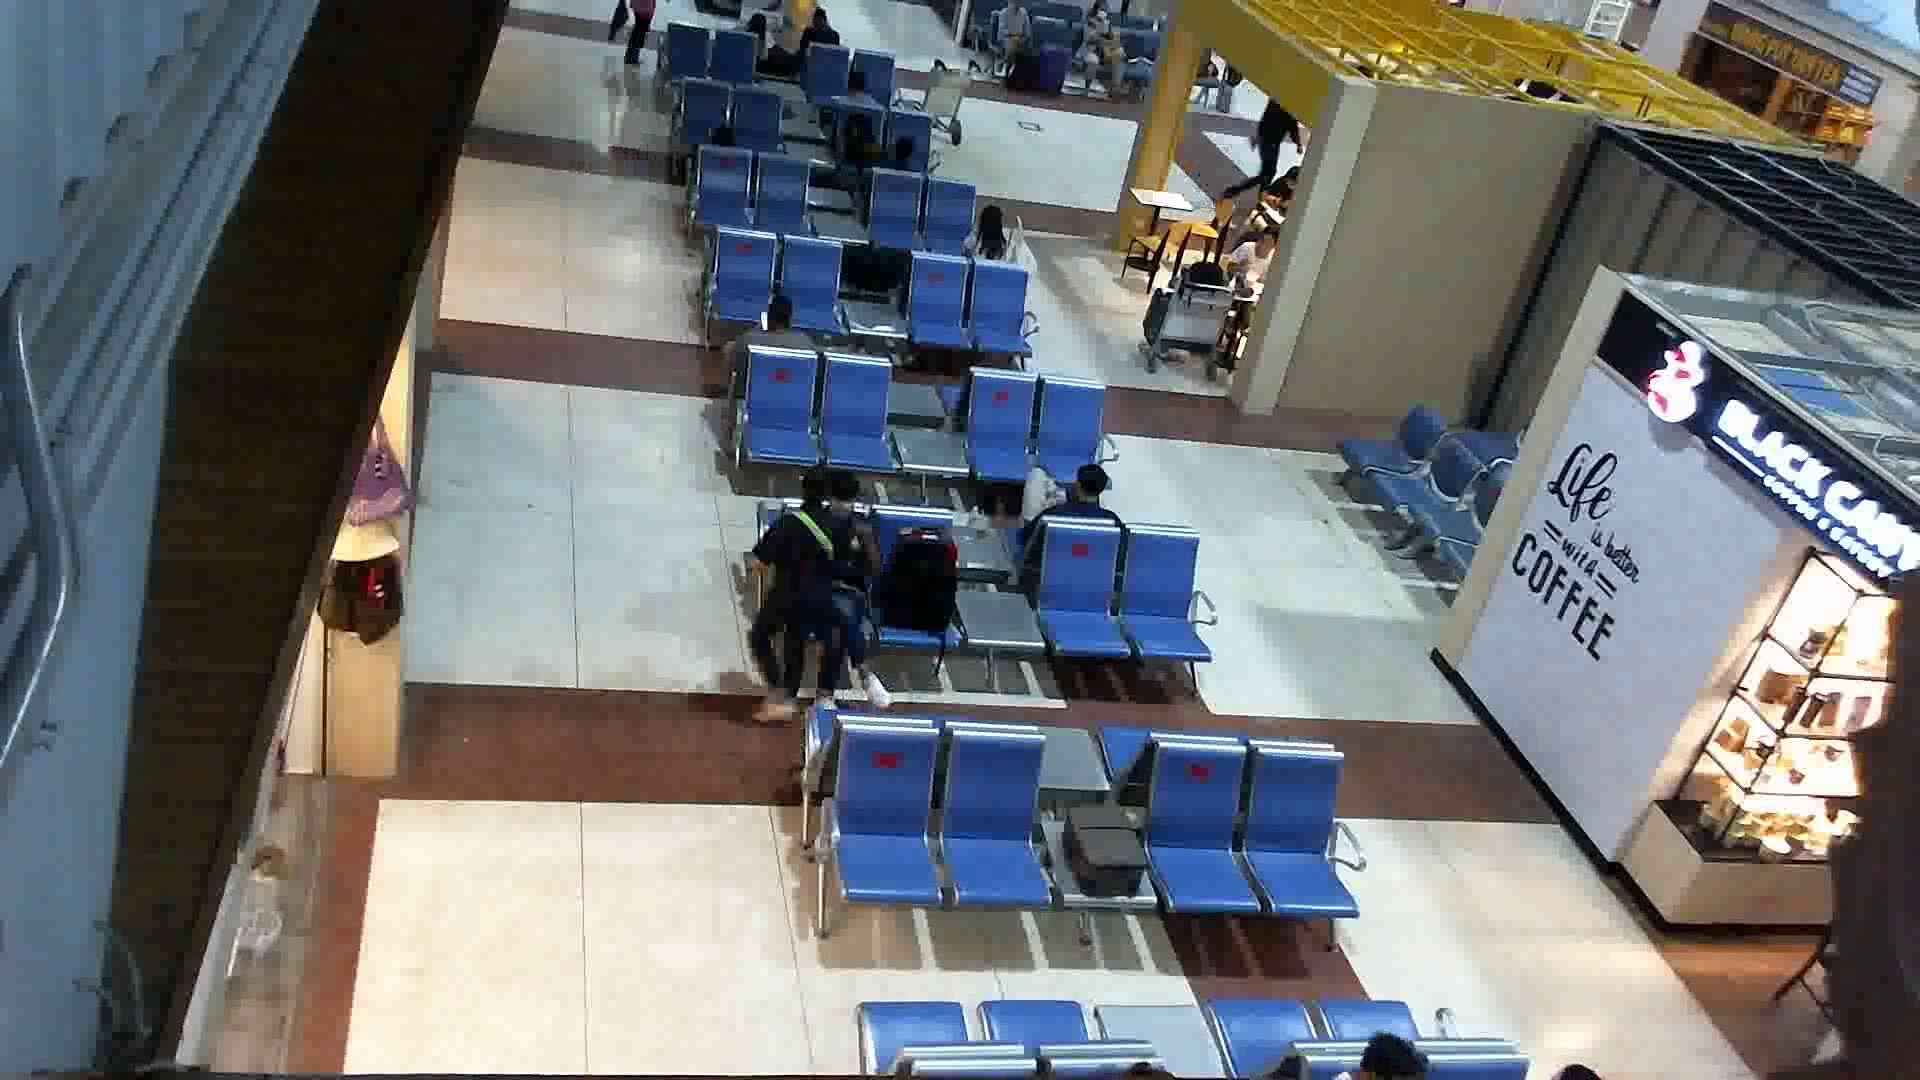luggage: (871, 515, 974, 656), (1046, 801, 1152, 907)
people: (797, 469, 904, 736), (741, 465, 835, 734), (1004, 470, 1129, 553)
